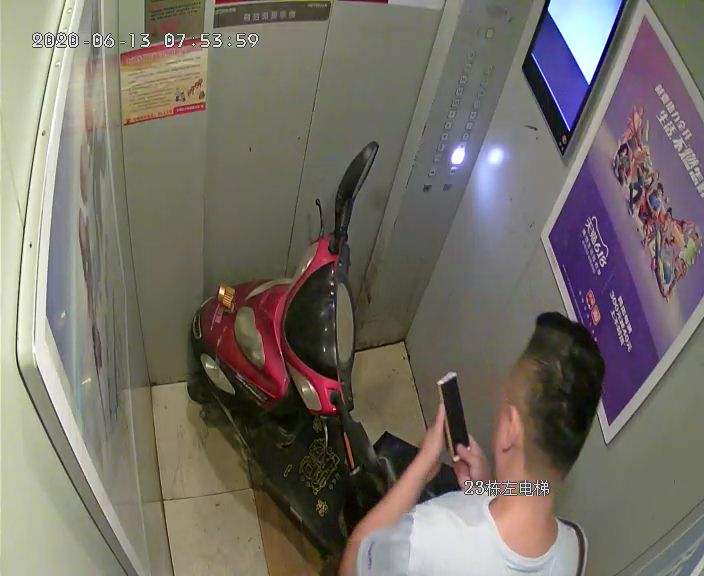Electric-bicycle: (189, 139, 435, 510)
